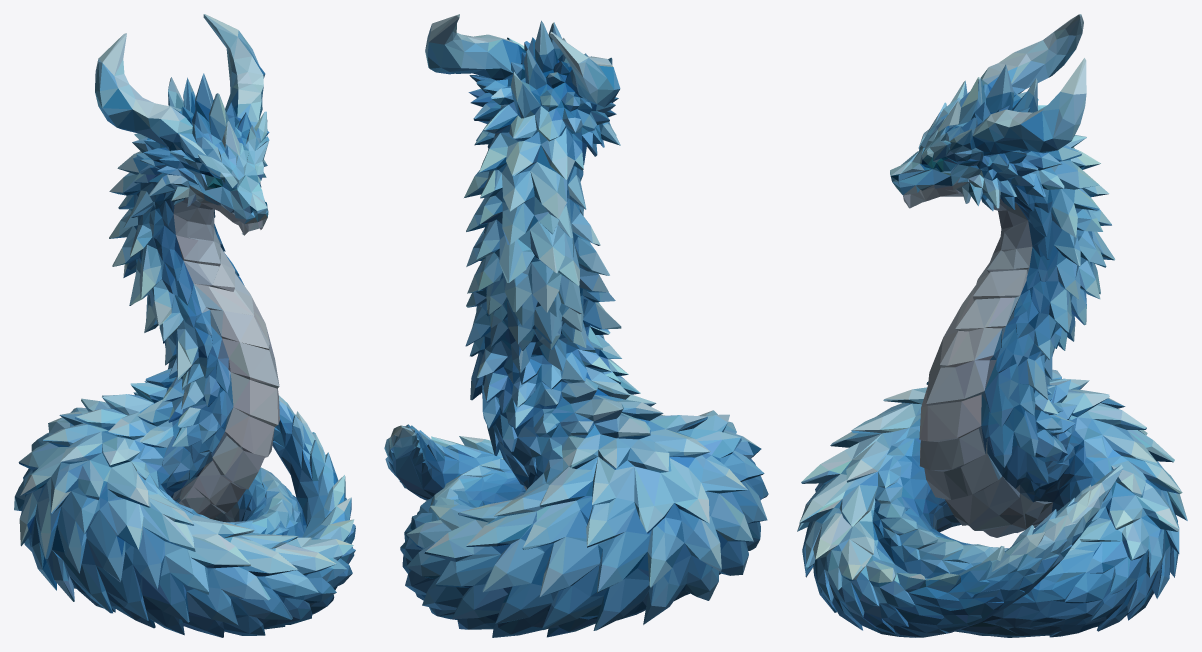
File: ice-serpent.glb
The picture shows the model from 3 angles, left to right: view 1: azimuth 30°, elevation 25°; view 2: azimuth 150°, elevation 25°; view 3: azimuth 270°, elevation 25°; orthographic projection. The views are drawn at different scales.
Parts seen in each view (by area): view 1: tripo_node_66d77a13-c2ce-452a-aa60-0e02eb15dd72; view 2: tripo_node_66d77a13-c2ce-452a-aa60-0e02eb15dd72; view 3: tripo_node_66d77a13-c2ce-452a-aa60-0e02eb15dd72.
Boxes of the visible parts, x1,y1,x2,y2 form: tripo_node_66d77a13-c2ce-452a-aa60-0e02eb15dd72: (14,14,355,637); tripo_node_66d77a13-c2ce-452a-aa60-0e02eb15dd72: (384,14,768,637); tripo_node_66d77a13-c2ce-452a-aa60-0e02eb15dd72: (797,14,1187,637).
Size of the model in its own units: 1.36 by 2.3 by 1.44.
